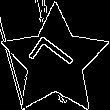L_SE: (27, 33, 83, 88)
